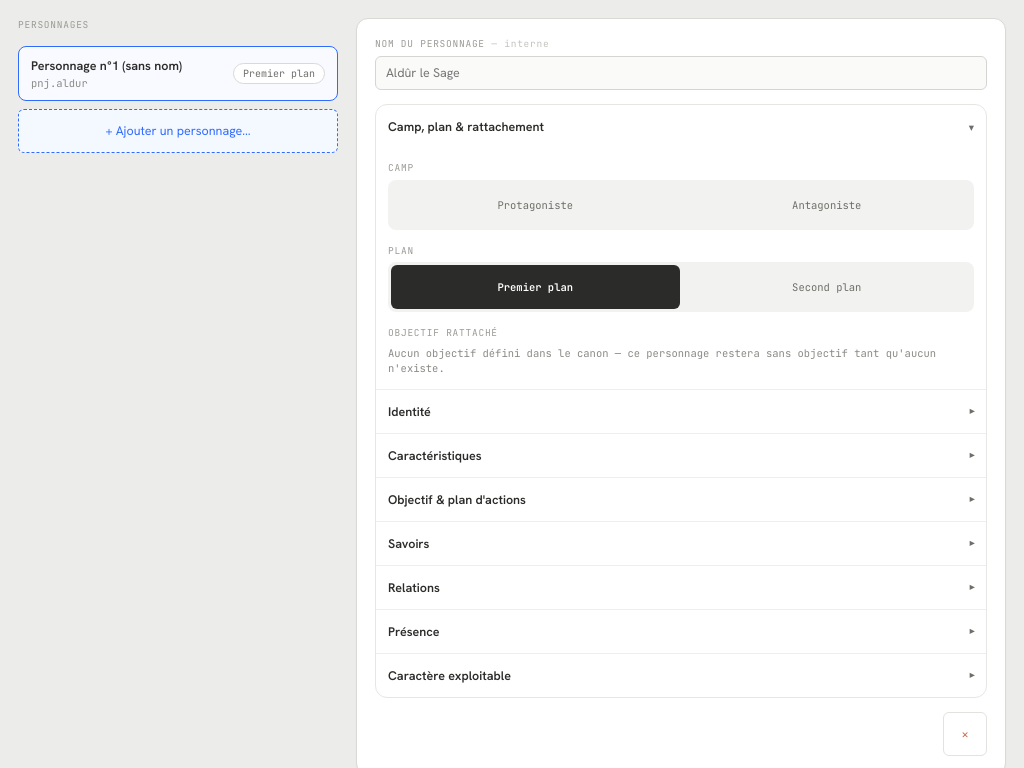
Test case: FichePersonnage - blocs Relations et Presence › etat vide relations: un seul personnage au total, message exact, aucun select d ajout
The width and height of the screenshot is (1024, 768).
Click the button "Relations ▾" at {"x": 414, "y": 587}, box [376, 565, 986, 609]
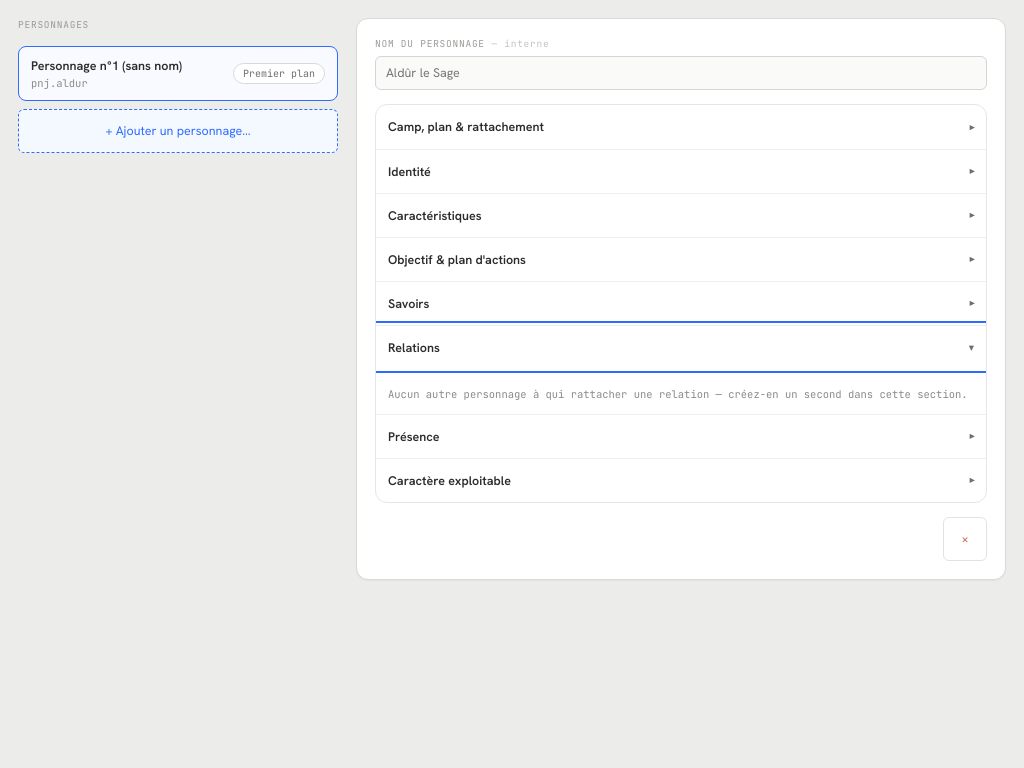
Expected: the text "Aucun autre personnage à qui rattacher une relation — créez-en un second dans cette section." is shown, [388, 387, 968, 401]
